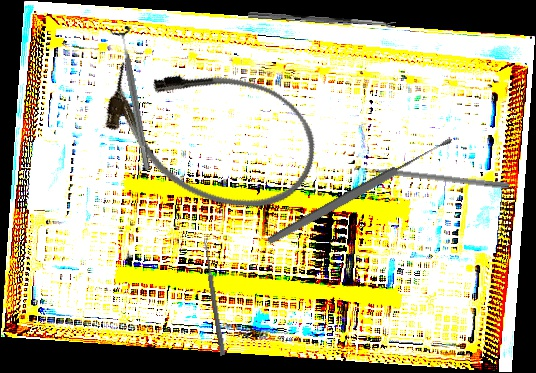Cannula: (86, 33, 334, 232)
Fixation Ring: (108, 25, 159, 172)
Pusher: (353, 162, 510, 190)
Surgical Spoon: (265, 134, 455, 248), (201, 238, 227, 356), (247, 11, 397, 30)
